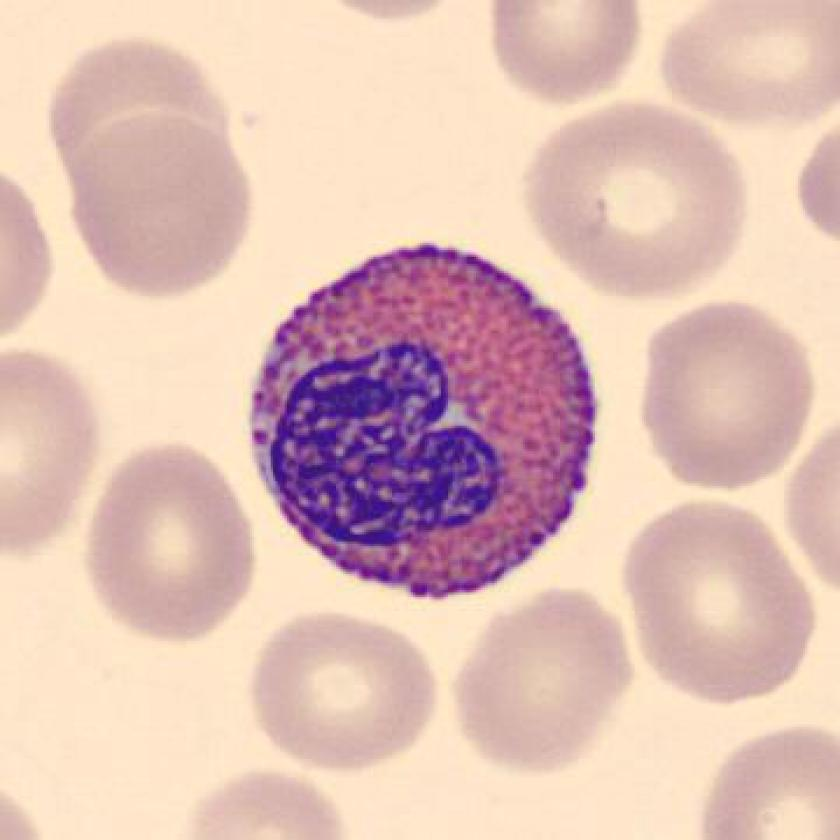eosinophil: (237, 232, 608, 612)
